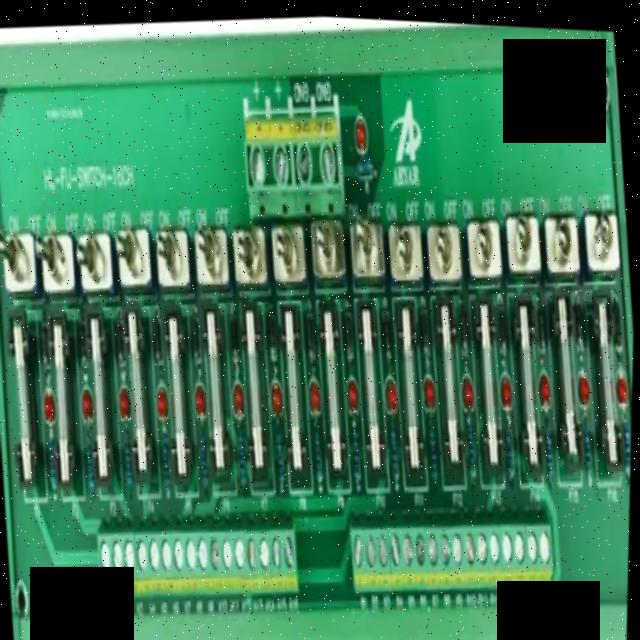2235: (0, 209, 41, 300), (33, 213, 77, 295), (74, 213, 114, 294), (191, 216, 233, 292), (110, 213, 153, 287), (583, 193, 622, 271), (225, 210, 269, 279), (538, 198, 582, 266), (503, 203, 544, 275), (422, 209, 463, 276), (268, 210, 307, 279), (308, 212, 348, 278), (152, 222, 191, 284), (383, 215, 424, 271), (349, 213, 386, 274), (465, 211, 504, 266)
LED: (352, 104, 369, 156), (153, 378, 172, 422), (191, 376, 209, 422), (345, 364, 363, 410), (267, 373, 286, 416), (459, 363, 476, 410), (382, 364, 400, 408), (496, 363, 515, 404), (306, 365, 323, 408), (231, 374, 247, 418), (420, 370, 438, 406), (577, 355, 591, 399), (118, 384, 134, 422), (616, 358, 630, 400), (538, 359, 553, 398), (41, 385, 56, 417), (81, 391, 92, 416)
connector -5v-: (346, 489, 566, 640), (89, 502, 308, 640), (236, 79, 352, 215)
diode -D1-: (416, 289, 434, 366), (339, 289, 356, 359), (379, 289, 395, 357), (148, 304, 164, 365), (74, 314, 90, 374), (112, 301, 127, 365), (608, 280, 623, 342), (532, 288, 548, 346), (37, 310, 51, 374), (263, 301, 278, 360), (570, 287, 585, 345), (189, 306, 203, 367), (303, 297, 317, 357), (226, 308, 241, 355), (496, 290, 508, 342), (458, 295, 469, 347)
fuse F1: (507, 279, 551, 474), (3, 307, 48, 494), (545, 276, 588, 467), (43, 304, 84, 501), (388, 292, 430, 479), (430, 289, 470, 475), (160, 298, 198, 485), (587, 275, 624, 465), (118, 305, 157, 482), (198, 299, 235, 483), (313, 301, 352, 471), (237, 290, 273, 468), (352, 294, 388, 467), (80, 309, 116, 481), (471, 288, 506, 460), (277, 306, 312, 472)
resistor IR1: (496, 404, 521, 483), (540, 408, 559, 477), (426, 413, 445, 479), (386, 418, 403, 485), (462, 406, 480, 469), (619, 402, 633, 479), (582, 423, 600, 482), (311, 419, 327, 483), (350, 422, 366, 484), (44, 436, 61, 493), (158, 428, 173, 483), (119, 437, 136, 485), (235, 425, 250, 477), (274, 431, 288, 483), (199, 432, 212, 476), (84, 440, 97, 480)
